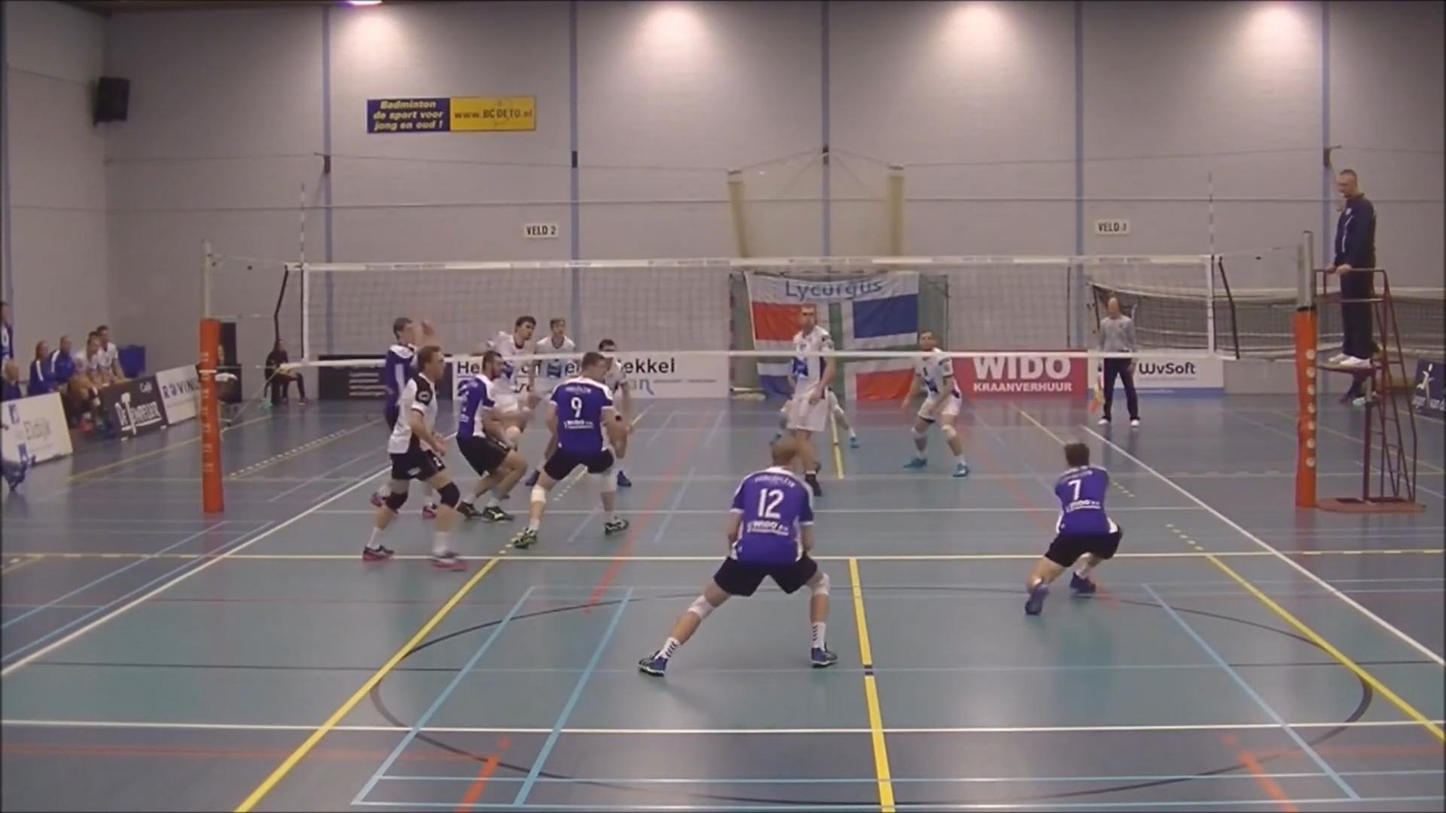difesa: (1025, 432, 1126, 619)
